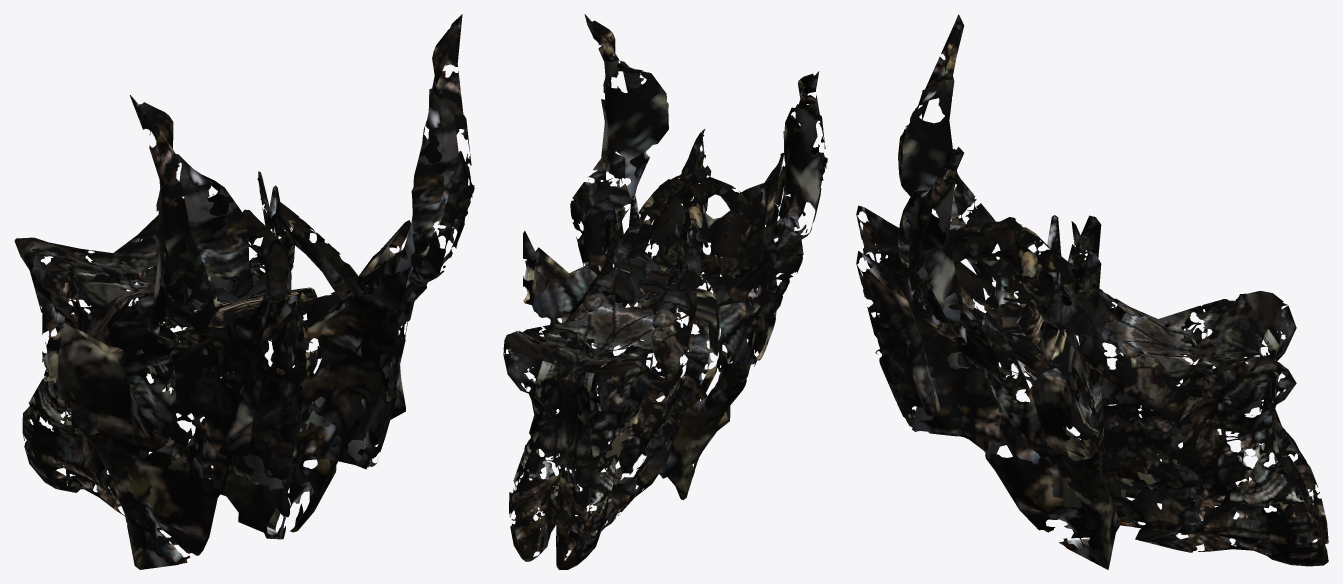
Rendered from trooper_shell.dae.
3 views of the same model, side by side, from view 1: azimuth 30°, elevation 25°; view 2: azimuth 150°, elevation 25°; view 3: azimuth 270°, elevation 25° (orthographic). The views are drawn at different scales.
Parts seen in each view (by area): view 1: trooper_shell; view 2: trooper_shell; view 3: trooper_shell.
Boxes of the visible parts, left/top/right/bottom form: trooper_shell: left=14, top=14, right=474, bottom=569; trooper_shell: left=503, top=14, right=827, bottom=569; trooper_shell: left=856, top=14, right=1328, bottom=569.
Bounding box in the file's own units: 0.549 × 0.8243 × 0.7443.
